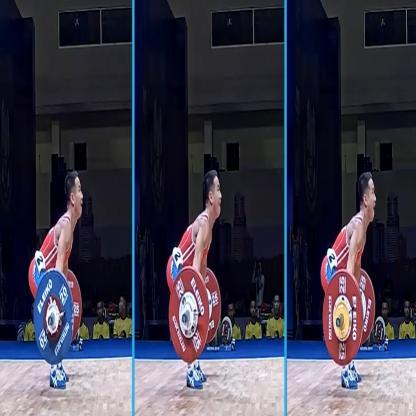Barbell: (336, 314, 344, 335), (48, 313, 56, 333), (183, 312, 190, 330)
